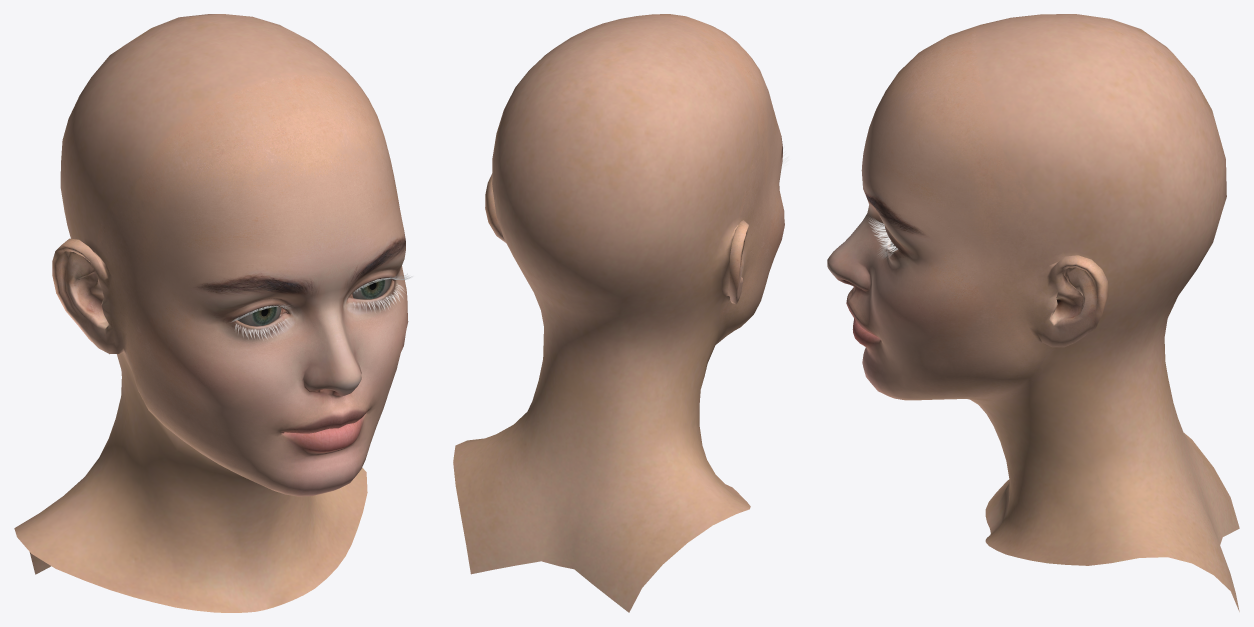
3 views of the same model, side by side, from view 1: azimuth 30°, elevation 25°; view 2: azimuth 150°, elevation 25°; view 3: azimuth 270°, elevation 25° (orthographic). The views are drawn at different scales.
Parts seen in each view (by area): view 1: Head, Eyes, Eyeslashes; view 2: Head; view 3: Head.
Boxes of the visible parts, x1,y1,x2,y2 form: Head: [14, 14, 408, 612]; Eyes: [236, 279, 391, 326]; Eyeslashes: [230, 274, 410, 339]; Head: [453, 14, 784, 612]; Head: [827, 14, 1239, 611].
Size of the model in its own units: 0.2003 by 0.3373 by 0.232.
Materials: 4 (4 with a texture image).
